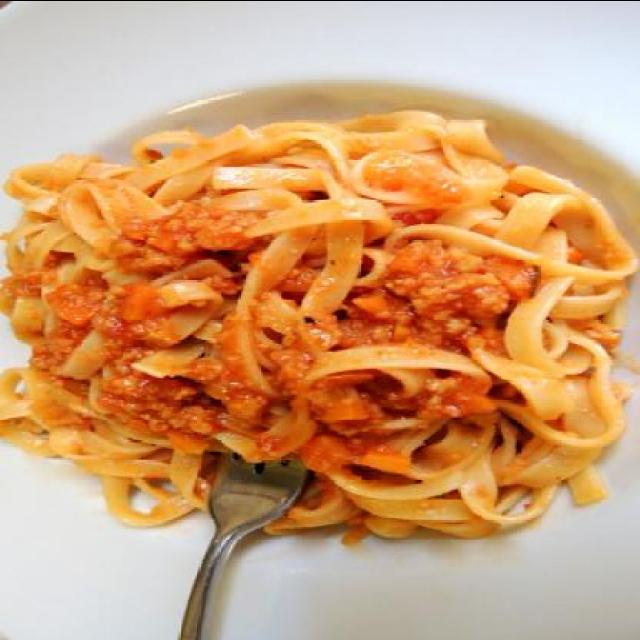Pasta al ragu: (15, 120, 593, 548)
